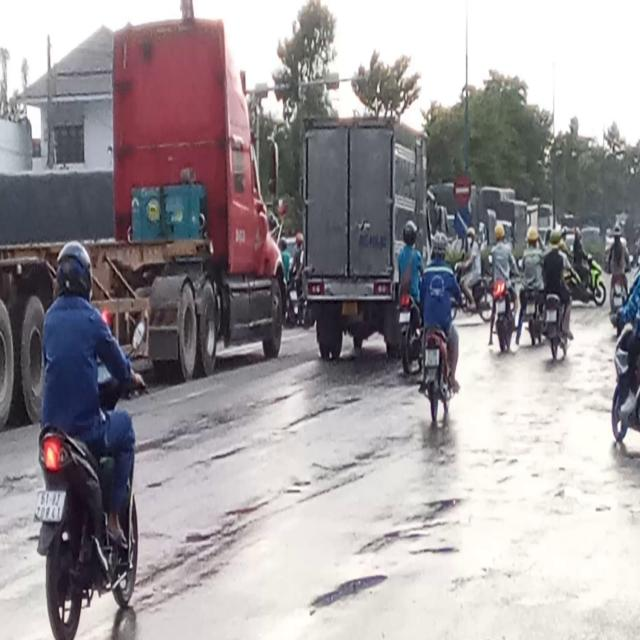bien_trang: (34, 485, 68, 526)
